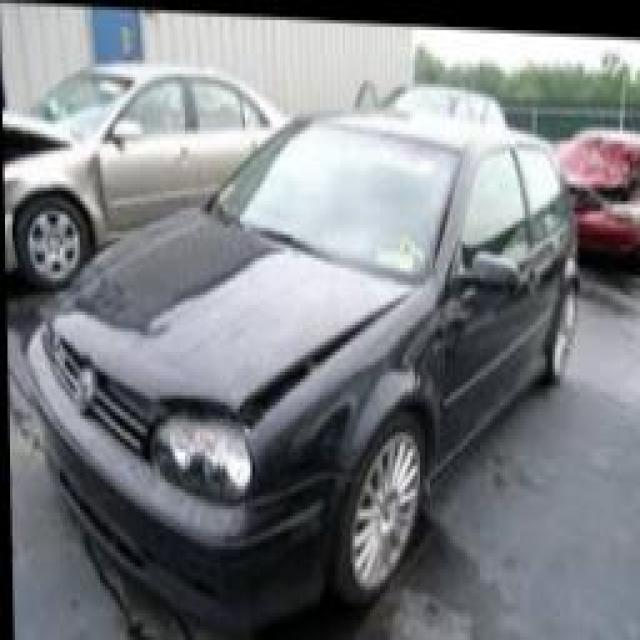Bonnet: (43, 200, 414, 453)
